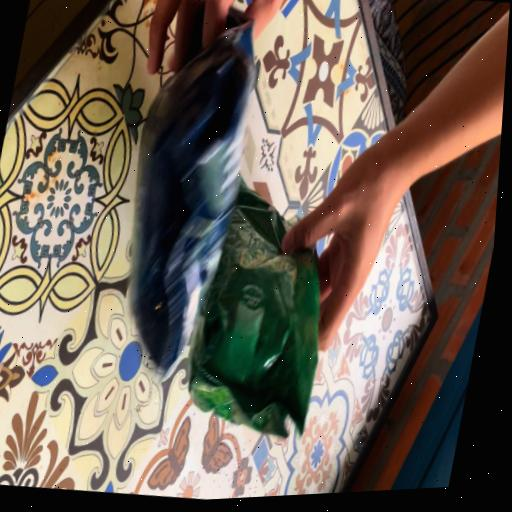cafe_hat: (131, 11, 253, 372)
cafe_xay: (188, 182, 318, 437)
